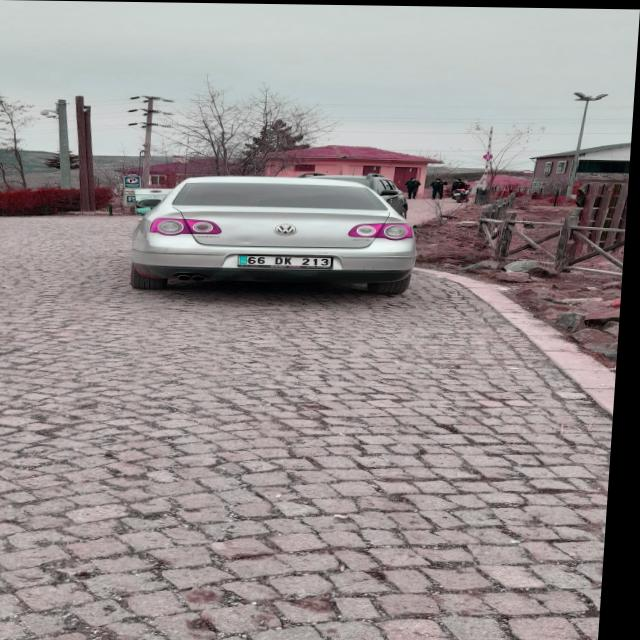plate: (240, 254, 336, 266)
